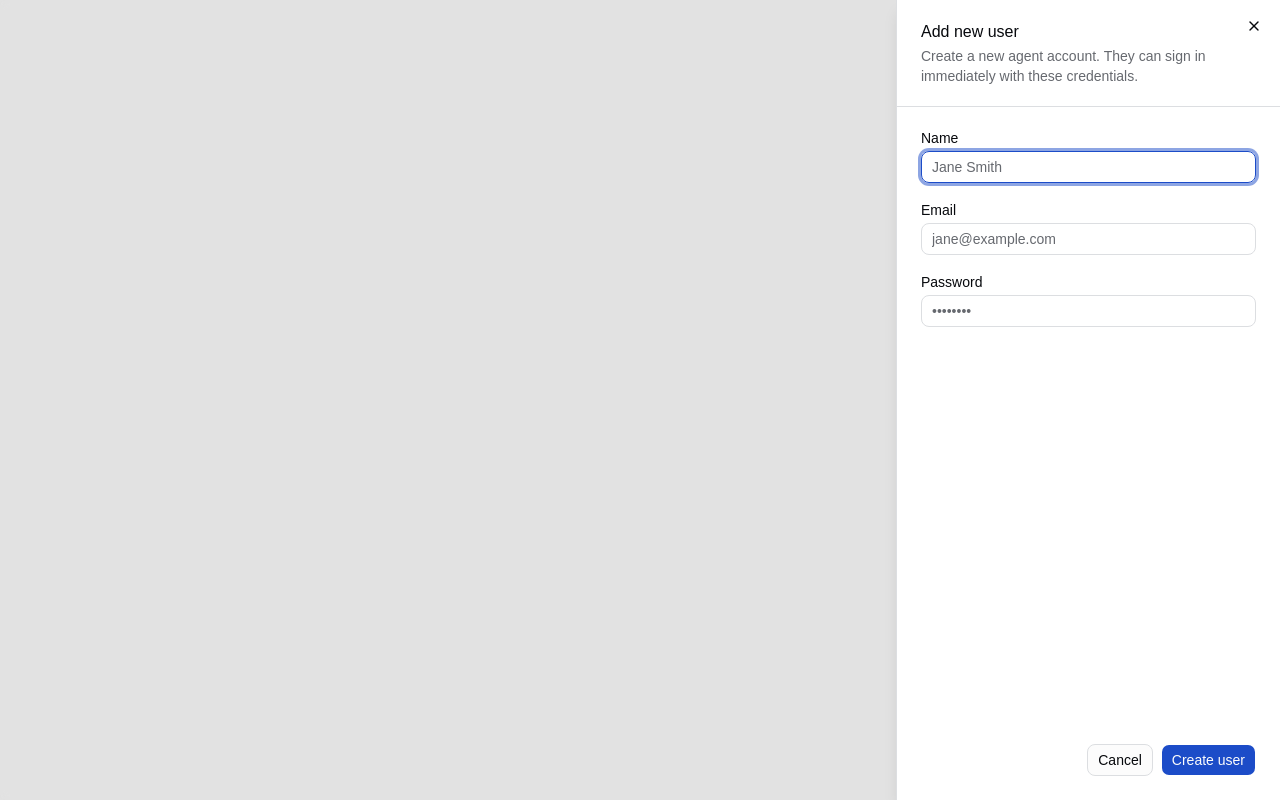
it: UserDialog › add mode (user=null) › validation › shows required errors for all fields when submitted empty
Click the button "Create user".
click(1208, 760)  # box [1161,744,1256,776]
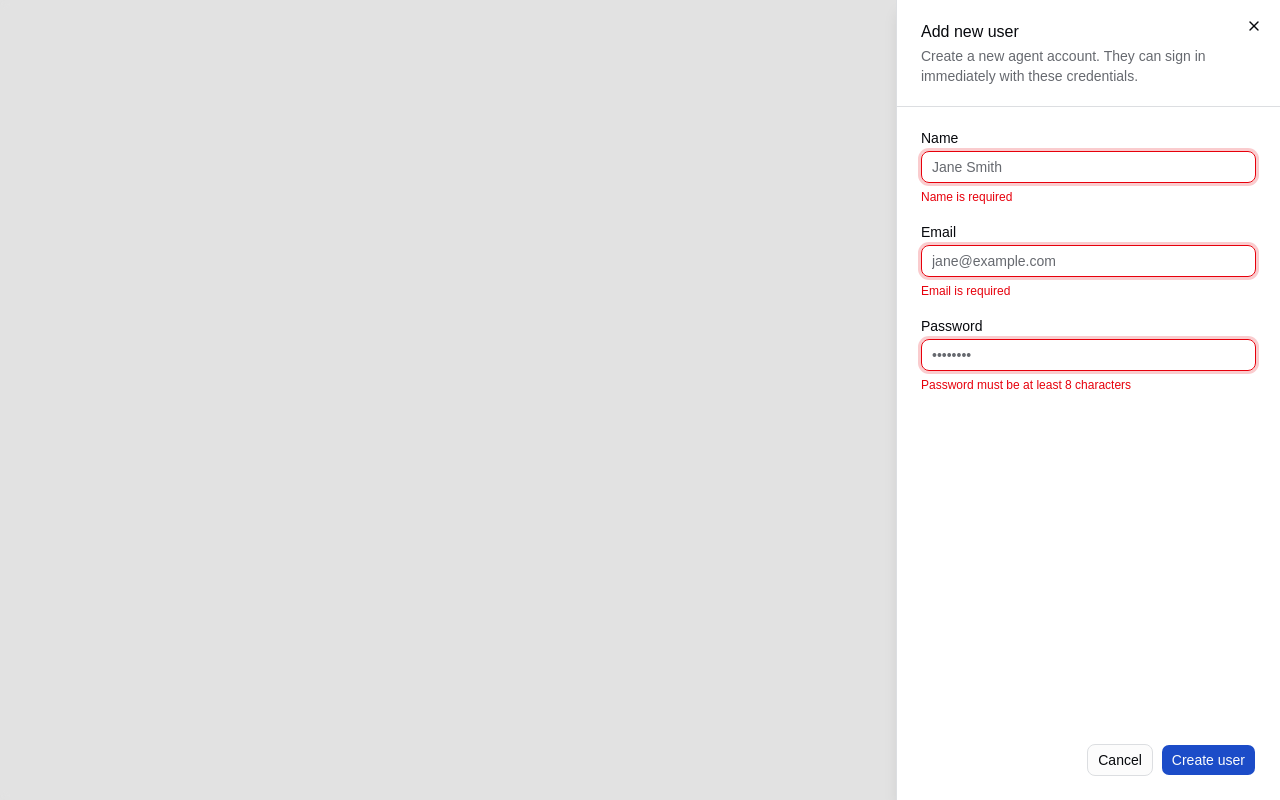
Expected: the text "Name is required" is shown, [921,190,1012,204]
Expected: the text "Email is required" is shown, [921,284,1010,298]
Expected: the text "Password must be at least 8 characters" is shown, [921,378,1131,392]
